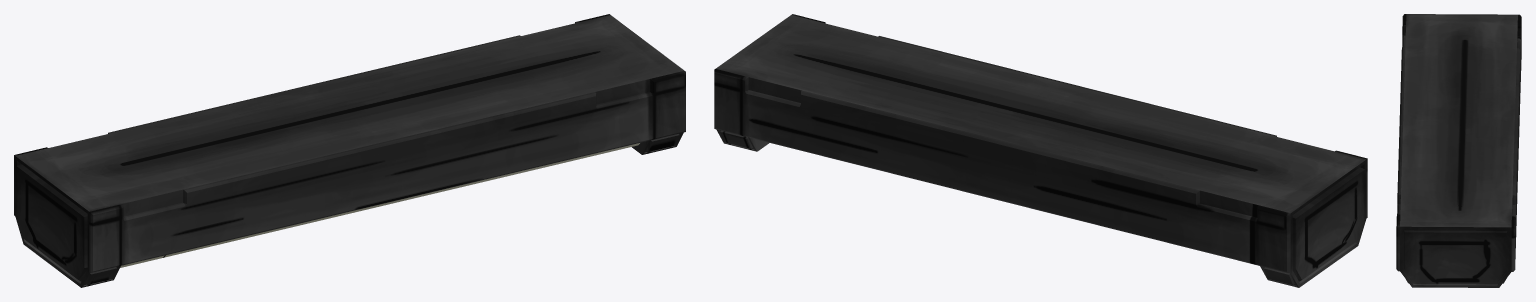
Rendered from Light.FBX.
3 renders of one model, left to right at view 1: azimuth 30°, elevation 25°; view 2: azimuth 150°, elevation 25°; view 3: azimuth 270°, elevation 25°, orthographic. The views are drawn at different scales.
Visible parts, largest first — view 1: Box013; view 2: Box013; view 3: Box013.
Boxes of the visible parts, <box> form: Box013: <box>14,14,685,287</box>; Box013: <box>714,14,1367,287</box>; Box013: <box>1396,14,1521,287</box>.
Size of the model in its own units: 45.43 by 6 by 11.21.
Materials: 1 (1 with a texture image).
